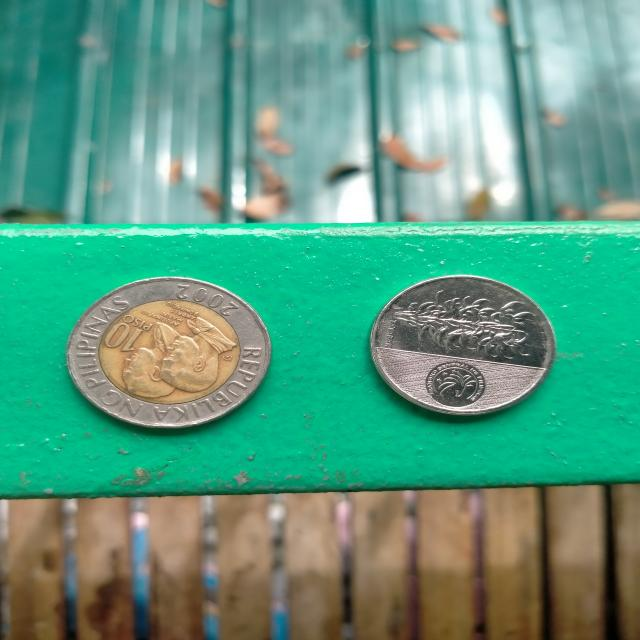10_Old_Front: (94, 309, 158, 357)
5_New_Back: (386, 291, 533, 359)
